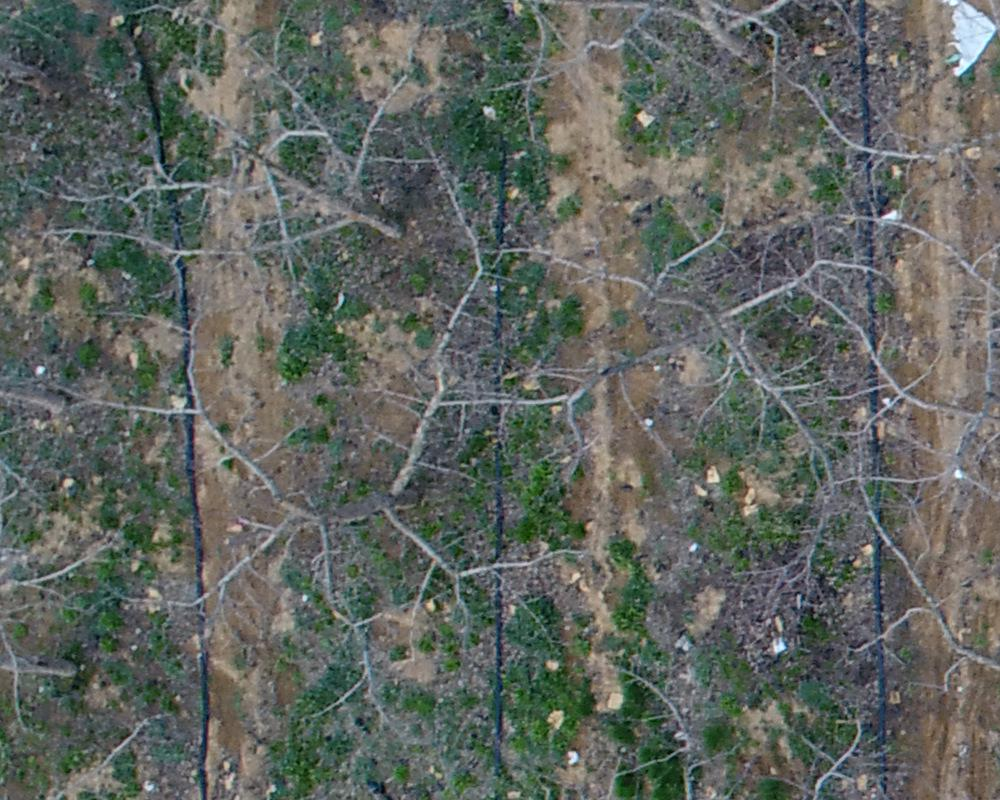apple: (169, 151, 574, 681), (21, 10, 443, 270), (495, 218, 925, 469), (474, 10, 940, 176)
